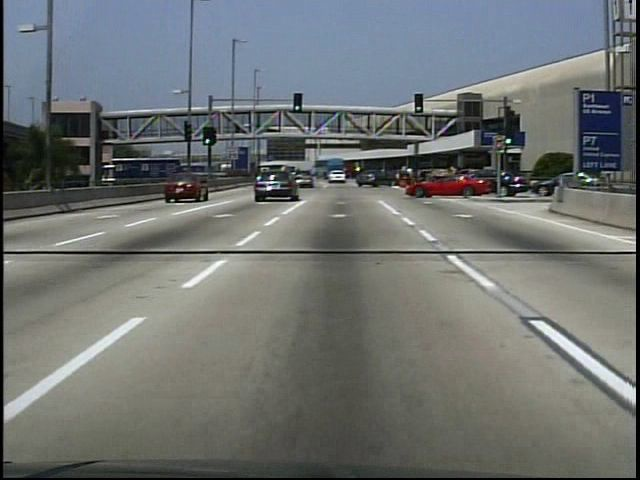person: (236, 124, 243, 136)
